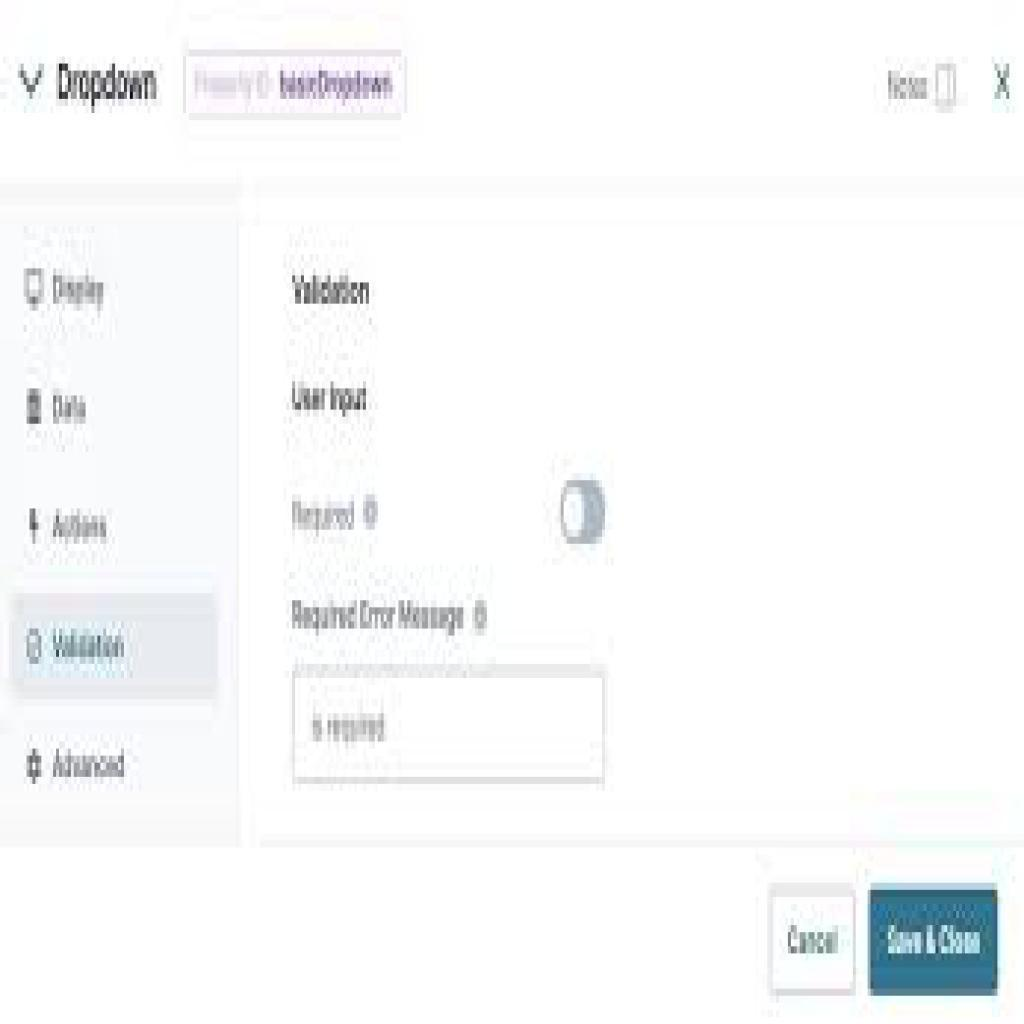button: (183, 51, 406, 120), (869, 889, 1000, 996), (771, 886, 855, 994)
icon: (985, 60, 1015, 107), (21, 268, 48, 315), (22, 625, 48, 673), (22, 386, 46, 429), (24, 506, 45, 547), (25, 746, 45, 789)
input: (294, 670, 605, 784)
label: (288, 600, 491, 641), (287, 491, 384, 539), (289, 268, 380, 315), (291, 376, 372, 419), (47, 506, 113, 547), (53, 628, 128, 664), (50, 271, 114, 313), (51, 749, 128, 782), (51, 387, 93, 427)
switch: (562, 482, 607, 547)
